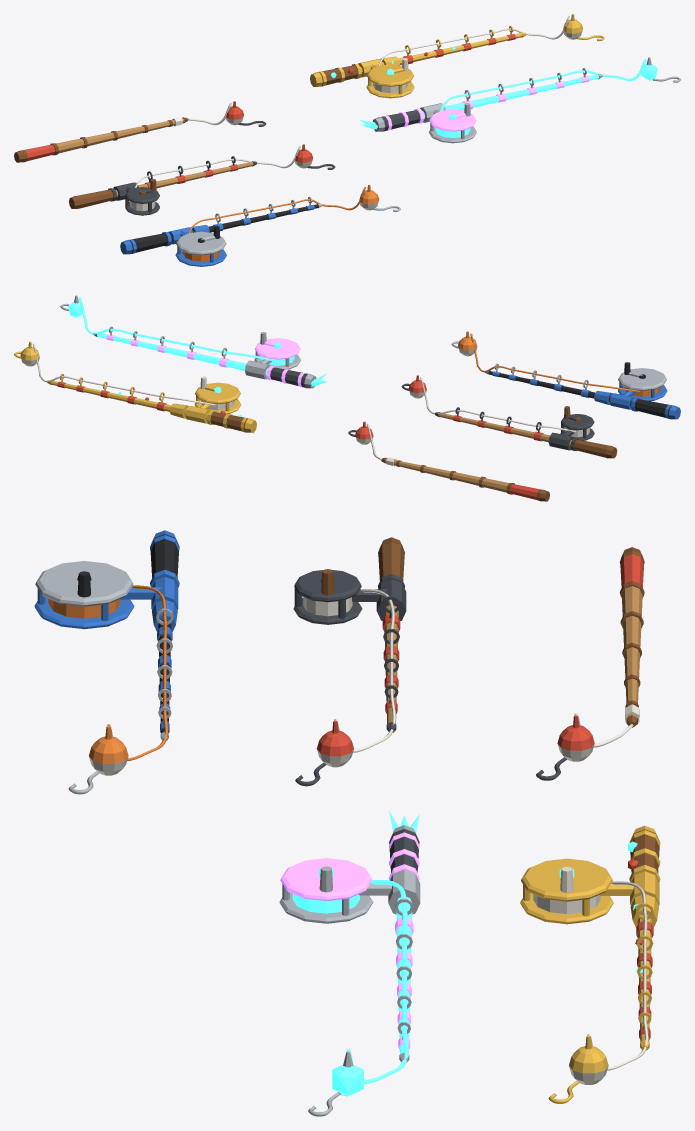
Rendered from tiered-fishing-rods.glb.
3 views of the same model, one above another, from view 1: azimuth 30°, elevation 25°; view 2: azimuth 150°, elevation 25°; view 3: azimuth 270°, elevation 25° (orthographic). The views are drawn at different scales.
Parts seen in each view (by area): view 1: Bamboo_Blank, Carbon_Reel, Crystal_Blank, Crystal_Reel, Gold_Reel, Crystal_Line, Gold_Blank, Wood_Blank, Carbon_Grip, Gold_Line, Carbon_Blank, Crystal_Grip (+5 smaller); view 2: Bamboo_Blank, Carbon_Reel, Crystal_Blank, Crystal_Reel, Gold_Reel, Crystal_Line, Gold_Blank, Wood_Blank, Gold_Line, Carbon_Line, Carbon_Blank, Carbon_Grip (+8 smaller); view 3: Carbon_Reel, Gold_Reel, Crystal_Reel, Bamboo_Blank, Wood_Reel, Carbon_ReelFrame, Crystal_Line, Carbon_Bobber, Gold_Bobber, Crystal_ReelFrame, Gold_ReelFrame, Wood_Bobber (+4 smaller).
Boxes of the visible parts, x1,y1,x2,y2 form: Bamboo_Blank: (56, 118, 184, 153); Carbon_Reel: (176, 231, 226, 255); Crystal_Blank: (422, 74, 598, 118); Crystal_Reel: (429, 109, 476, 131); Gold_Reel: (367, 64, 413, 86); Crystal_Line: (440, 58, 646, 111); Gold_Blank: (360, 33, 522, 73); Wood_Blank: (115, 162, 253, 197); Carbon_Grip: (129, 233, 167, 253); Gold_Line: (378, 16, 569, 66); Carbon_Blank: (170, 204, 318, 240); Crystal_Grip: (381, 110, 420, 131); Bamboo_Blank: (384, 458, 508, 492); Carbon_Reel: (618, 368, 666, 390); Crystal_Blank: (97, 333, 267, 375); Crystal_Reel: (255, 338, 300, 359); Gold_Reel: (195, 382, 240, 403); Crystal_Line: (78, 297, 275, 361); Gold_Blank: (50, 381, 208, 419); Wood_Blank: (438, 413, 571, 447); Gold_Line: (33, 343, 215, 405); Carbon_Line: (470, 333, 640, 392); Carbon_Blank: (488, 371, 631, 406); Carbon_Grip: (634, 399, 671, 418); Carbon_Reel: (35, 561, 133, 606); Gold_Reel: (521, 858, 612, 901); Crystal_Reel: (280, 858, 372, 900); Bamboo_Blank: (621, 586, 642, 716); Wood_Reel: (294, 570, 361, 602); Carbon_ReelFrame: (34, 597, 134, 629); Crystal_Line: (346, 879, 408, 1083); Carbon_Bobber: (89, 736, 128, 775); Gold_Bobber: (569, 1046, 608, 1084); Crystal_ReelFrame: (279, 893, 373, 923); Gold_ReelFrame: (520, 893, 613, 924); Wood_Bobber: (316, 730, 353, 767).
Size of the model in its own units: 21.42 by 0.9598 by 10.04.
